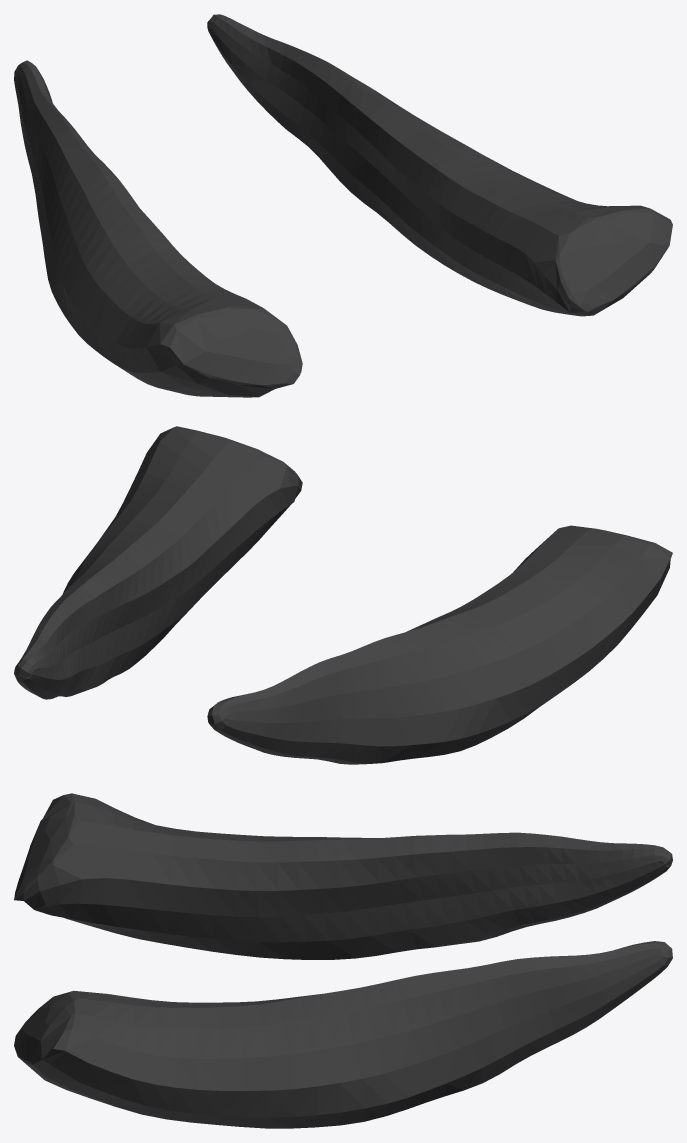
File: L_mand_I2_LO.glb
3 views of the same model, one above another, from view 1: azimuth 30°, elevation 25°; view 2: azimuth 150°, elevation 25°; view 3: azimuth 270°, elevation 25° (orthographic).
Visible parts, largest first — view 1: L_mand_I2_LO; view 2: L_mand_I2_LO; view 3: L_mand_I2_LO.
Boxes of the visible parts, x1,y1,x2,y2 form: L_mand_I2_LO: (14, 14, 672, 397); L_mand_I2_LO: (14, 426, 672, 764); L_mand_I2_LO: (14, 793, 672, 1128).
Bounding box in the file's own units: 0.000517 × 0.000139 × 0.000565.
Materials: 1 (1 with a texture image).
